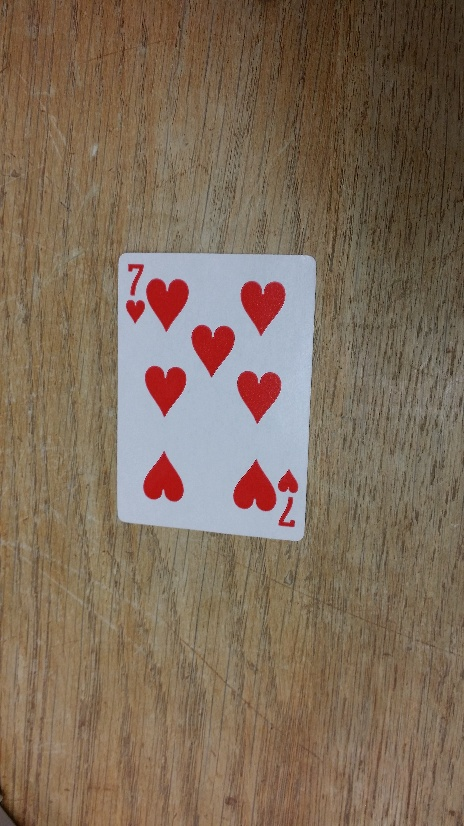H7: (273, 464, 302, 530), (123, 257, 148, 327)
